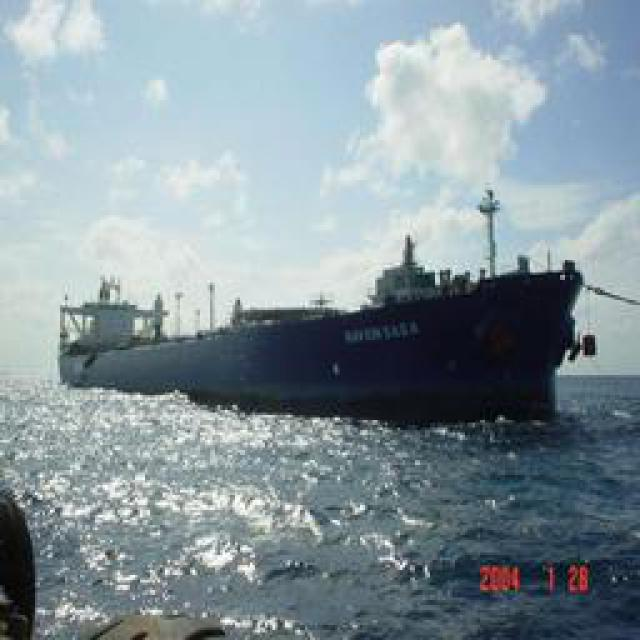Ship: (61, 255, 609, 420)
